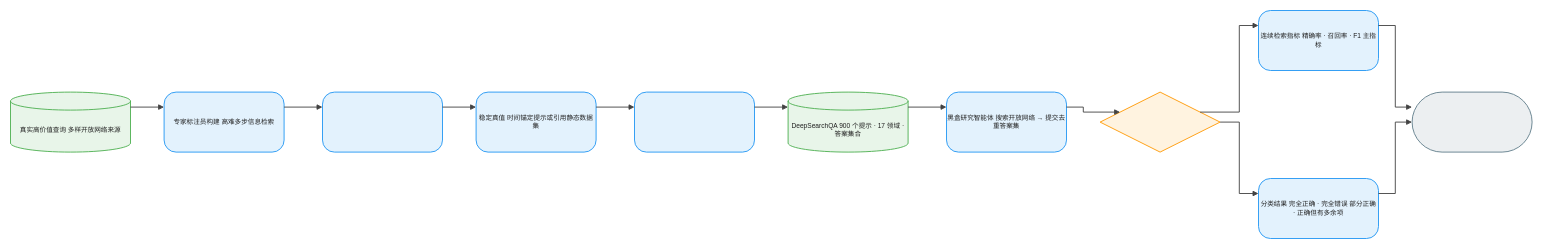
Image size: 1543x250. Some labels were removed from this diagram. Here are the shapes that lost their labels. From the top down, the box of each, then its label:
(322, 91, 443, 152): 是否客观且真值确定？ 单一实体或穷举答案集
(634, 91, 755, 152): 构建因果搜索链 检索 → 组装 → 推理 去重 · 实体解析 · 停止判断
(1099, 91, 1220, 152): 两级结果评测
(1411, 91, 1532, 152): 全面性报告 漏检、撒网和停止失败模式
